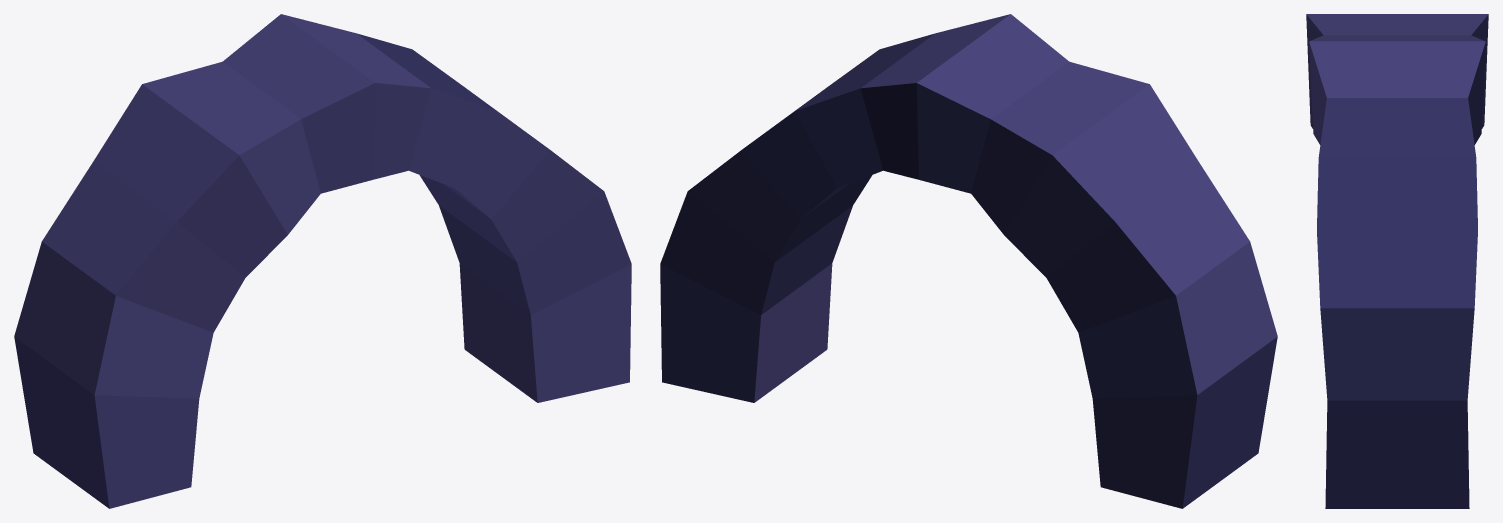
File: arch.glb
The picture shows the model from 3 angles, left to right: view 1: azimuth 30°, elevation 25°; view 2: azimuth 150°, elevation 25°; view 3: azimuth 270°, elevation 25°; orthographic projection. The views are drawn at different scales.
Parts seen in each view (by area): view 1: arch; view 2: arch; view 3: arch.
Boxes of the visible parts, x1,y1,x2,y2 form: arch: (14, 14, 631, 508); arch: (660, 14, 1277, 508); arch: (1306, 14, 1488, 508).
Size of the model in its own units: 6.87 by 4.5 by 2.14.
